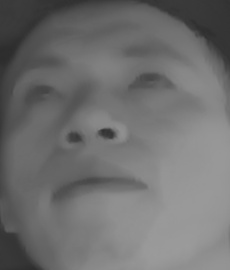eye: (123, 68, 181, 99), (19, 77, 66, 109)
mouth: (47, 162, 148, 211)
